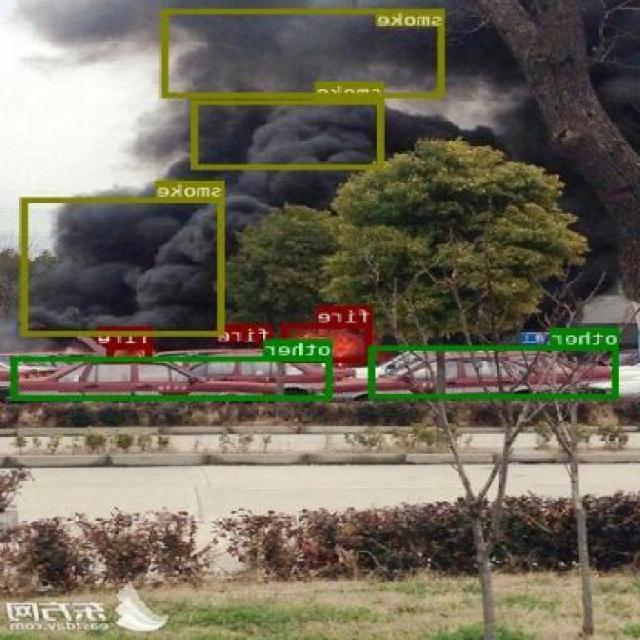Fire: (283, 323, 374, 362), (109, 344, 154, 362), (264, 342, 272, 349)
Smoke: (23, 196, 226, 335), (162, 8, 447, 97), (192, 100, 386, 168)
